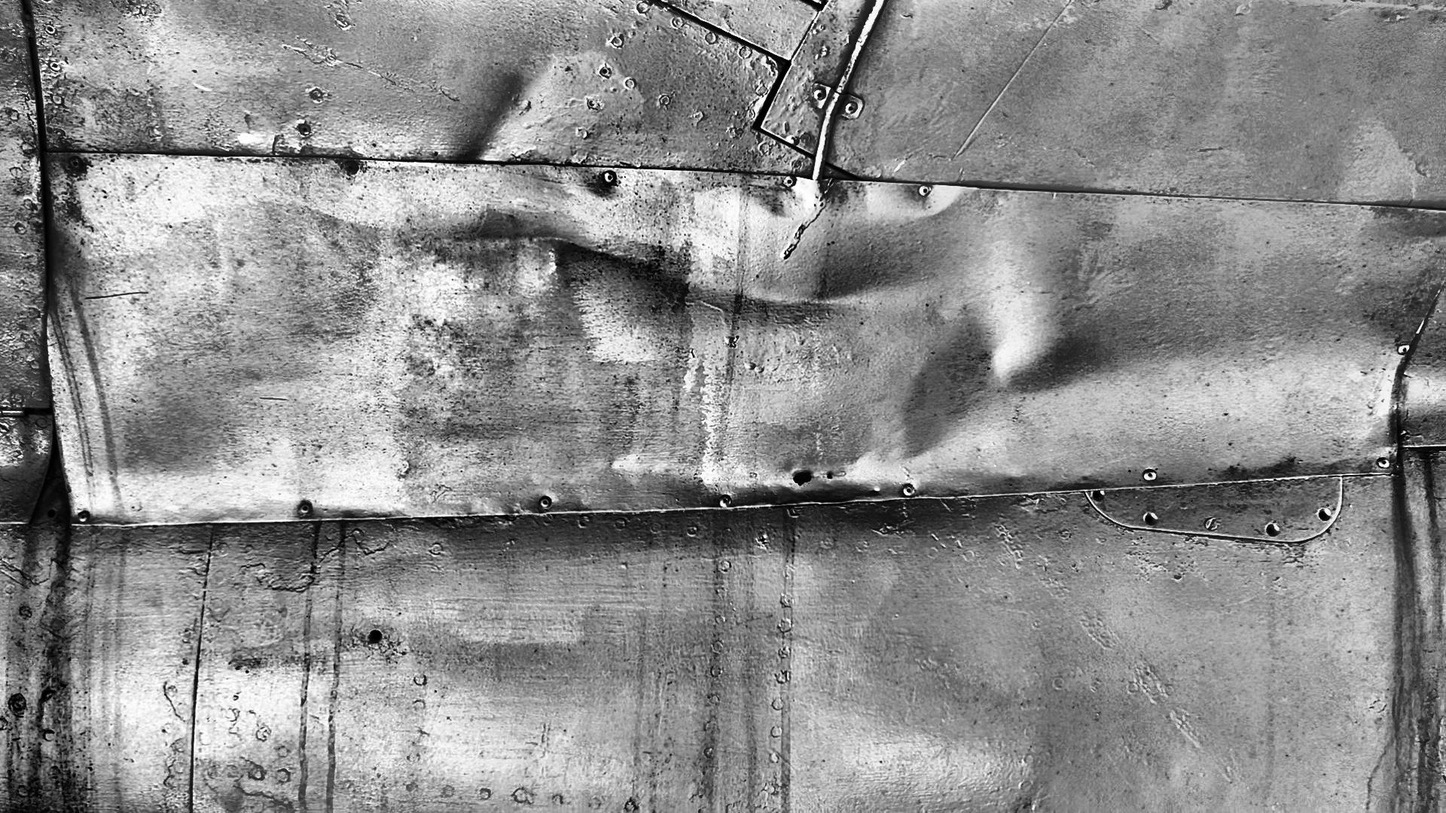dent: (458, 226, 890, 310), (898, 330, 982, 457), (463, 61, 561, 161), (991, 342, 1117, 396), (732, 482, 904, 507), (859, 182, 959, 218), (748, 179, 822, 222), (580, 168, 632, 199)
missing-head: (1143, 511, 1159, 526), (1091, 488, 1105, 502), (1265, 524, 1280, 537), (1316, 509, 1332, 520), (298, 124, 311, 137), (599, 67, 611, 77), (45, 25, 56, 35), (48, 62, 59, 71)
scratch: (956, 0, 1074, 158), (84, 290, 152, 300), (258, 396, 289, 402)
